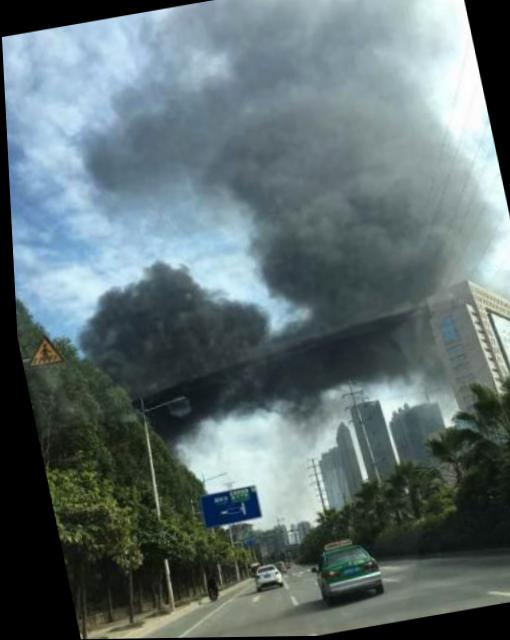smoke: (214, 85, 472, 221), (246, 179, 482, 324), (176, 0, 451, 124), (73, 243, 270, 376), (73, 69, 208, 219)
